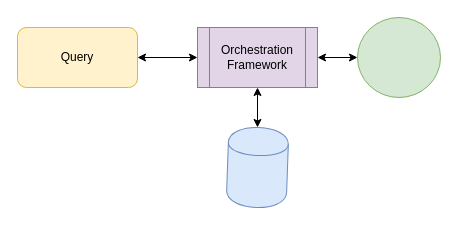
This 458x227 diagram has some shape labels left out. Here are the shapes that lost their labels. From the top down, the box of each, then its label:
(356, 16, 440, 98): LLM
(225, 126, 289, 209): Vector Database
